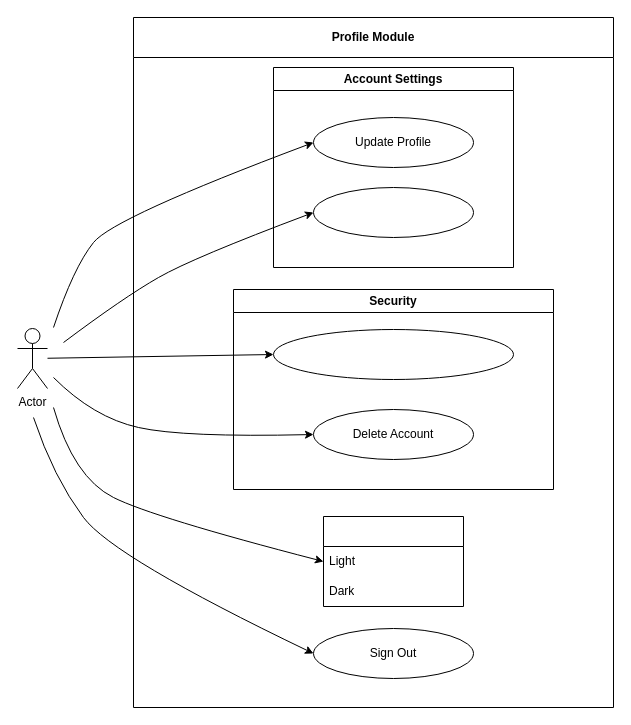
The diagram is 631 pixels wide and 725 high, and some of its shapes have lost their labels. The shapes that lost their labels are listed below. From the top down, each one's box as (x1, y1, x2, y2) in pixels, then its label:
(312, 186, 474, 238): Connected Accouts
(272, 328, 514, 380): Active Device Management
(322, 516, 464, 606): Theme
